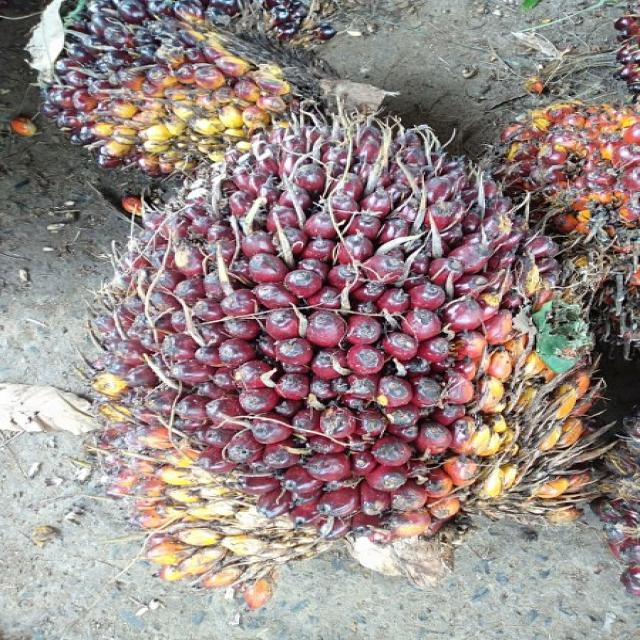fraksi 1: (101, 89, 610, 620)
